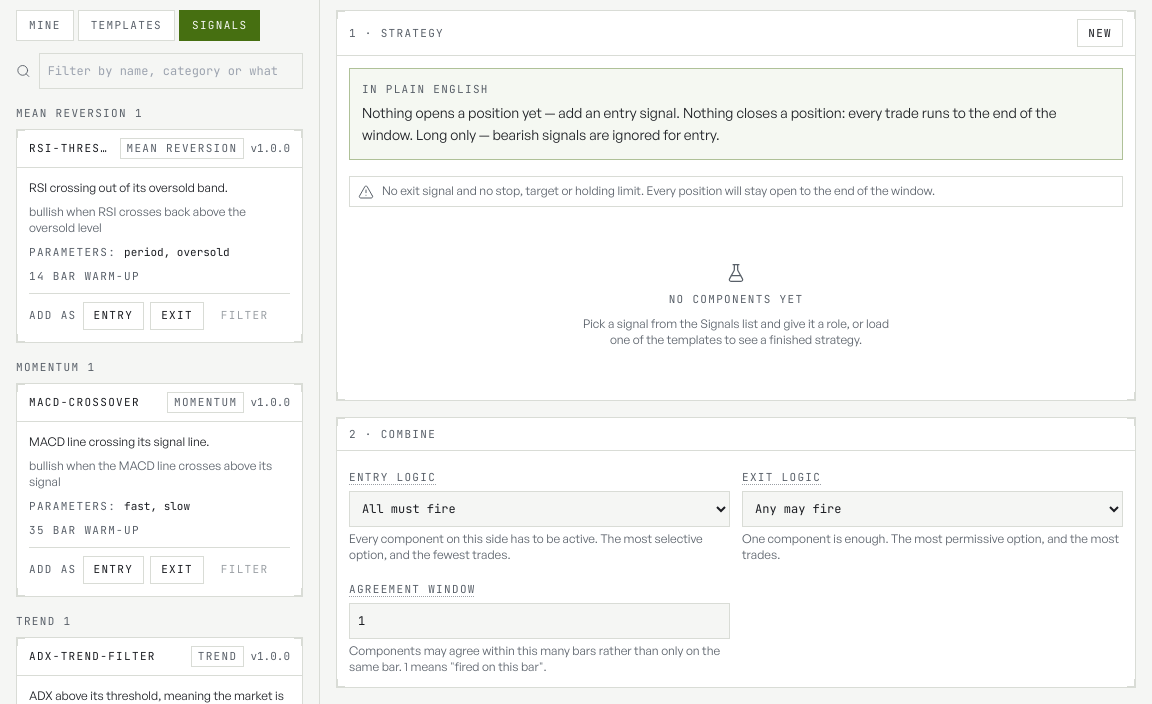
Test: StrategyBuilder › shelves the AI Quant Book presets apart from the starters, with their caveat
Click the tab "Templates": (126, 25) [78, 10, 175, 40]
(page scrolled)
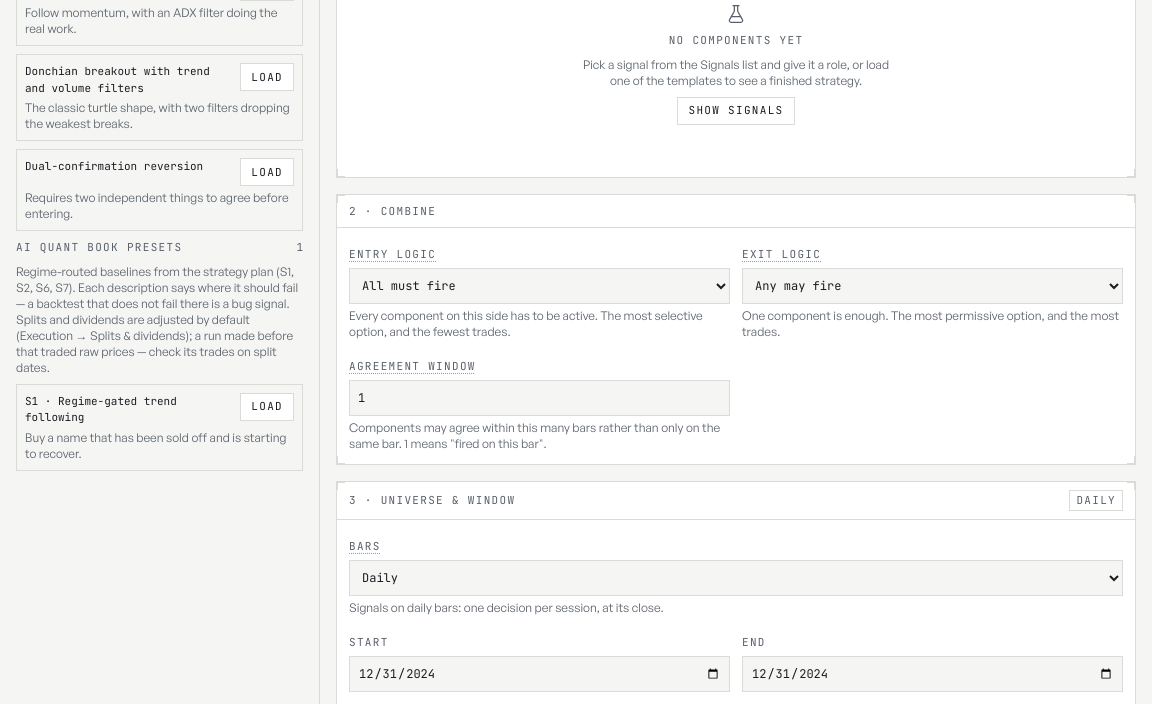
expect the element with test id "template-shelf-ai-quant-book" shows "S1 · Regime-gated trend following": met, box [25, 394, 177, 424]
expect the element with test id "template-shelf-ai-quant-book" shows "split": met, box [16, 264, 298, 374]
